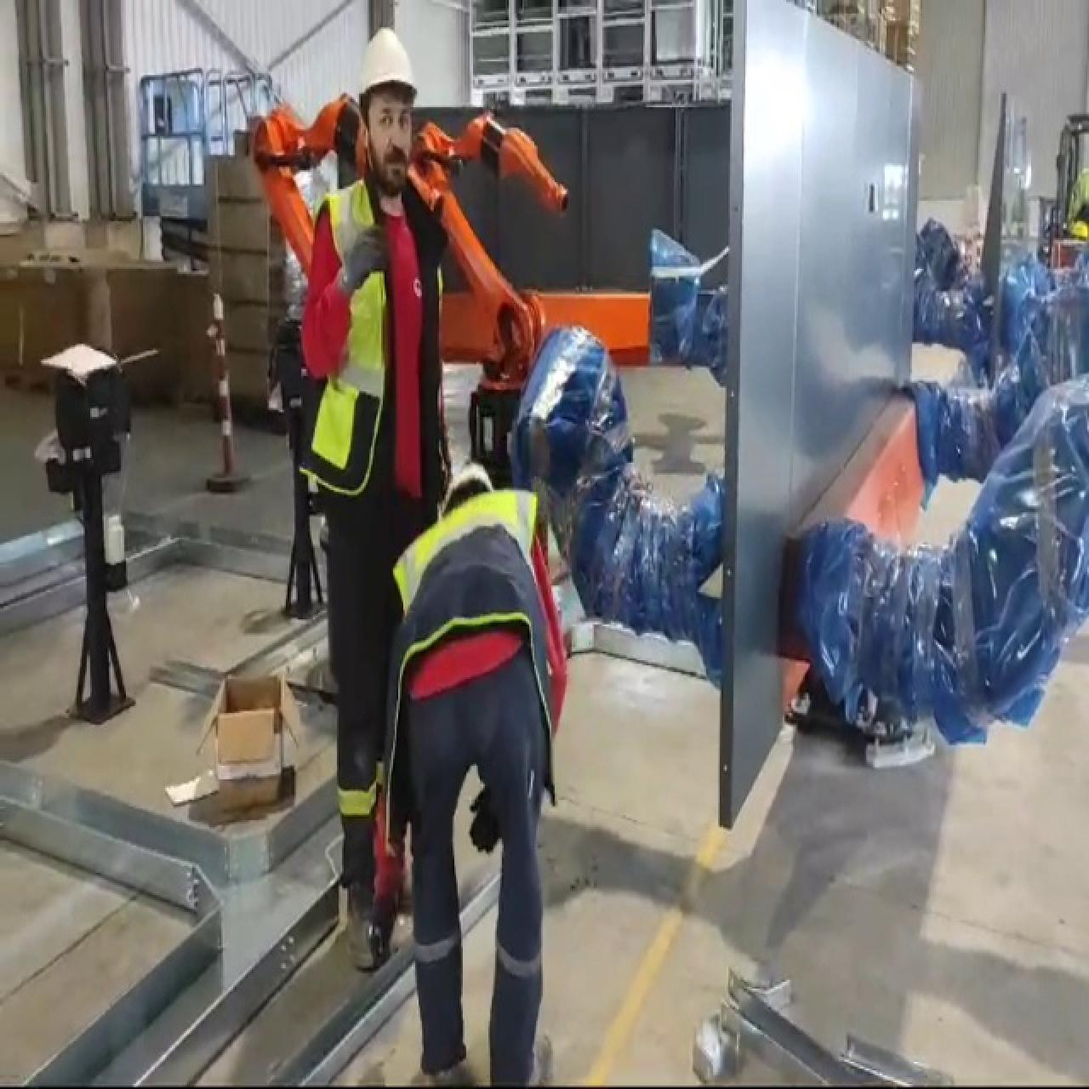Person: (295, 18, 463, 968), (356, 459, 590, 1085)
Safety_Vest: (383, 492, 549, 771), (303, 186, 451, 493)
